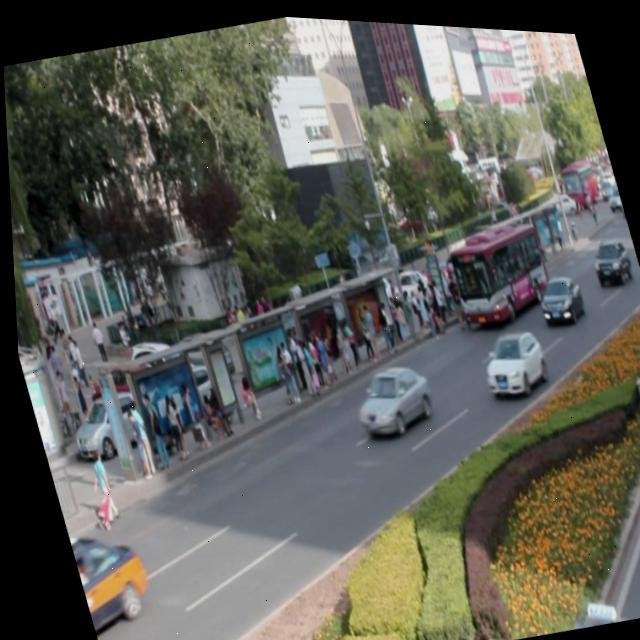car: (63, 524, 150, 640), (341, 354, 435, 438), (470, 319, 547, 396), (529, 265, 585, 326), (584, 227, 633, 284)
van: (433, 207, 552, 330)
